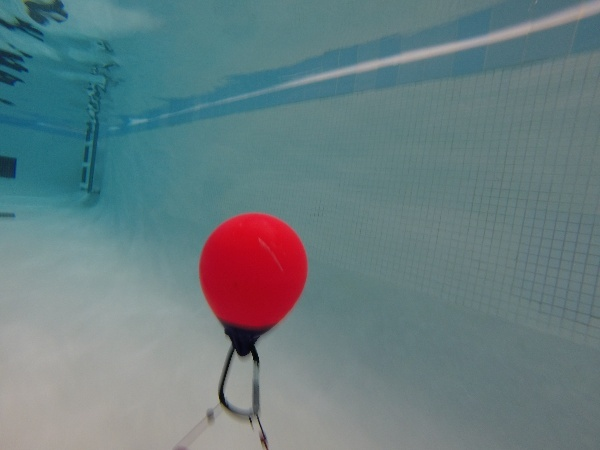buoy_red: (189, 213, 312, 358)
